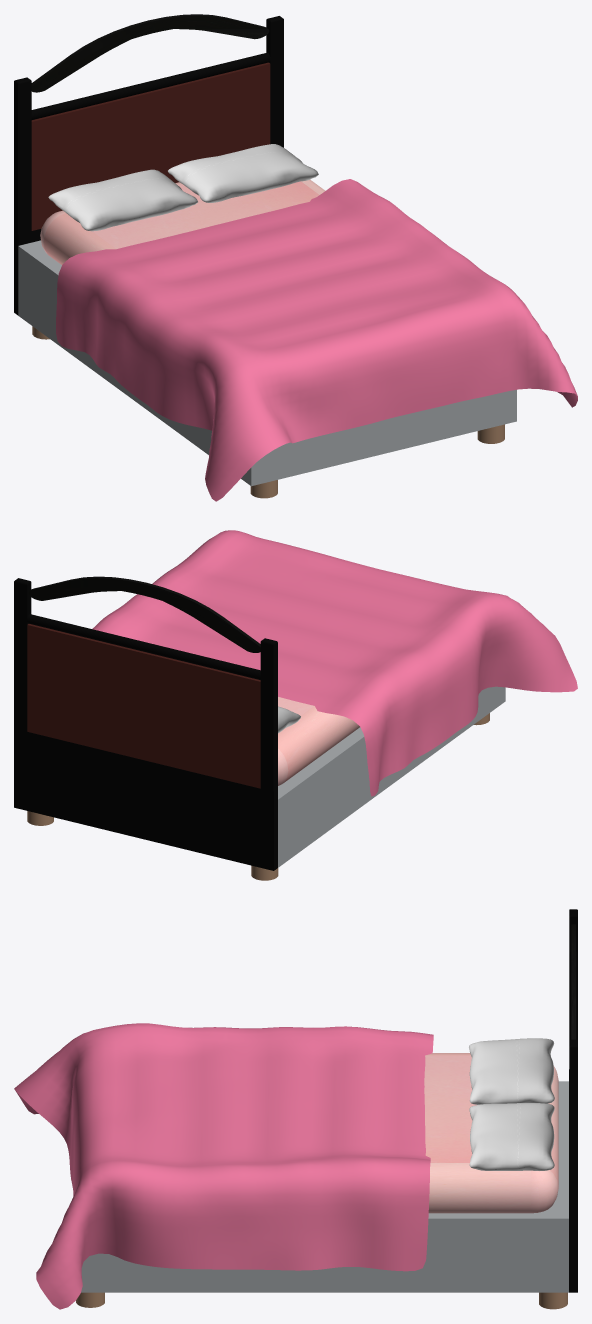
File: bed3.obj
3 views of the same model, one above another, from view 1: azimuth 30°, elevation 25°; view 2: azimuth 150°, elevation 25°; view 3: azimuth 270°, elevation 25° (orthographic). The views are drawn at different scales.
Visible parts, largest first — view 1: polySurface2 pPlane2, pPlane2 polySurface1, pasted__pCube2group2, pCylinder1; view 2: polySurface2 pPlane2, pPlane2 polySurface1, pasted__pCube2group2, pCylinder1; view 3: polySurface2 pPlane2, pasted__pCube2group2.
Boxes of the visible parts, box(x1,y1,x2,y2) form: polySurface2 pPlane2: box(14, 16, 577, 501); pPlane2 polySurface1: box(31, 62, 270, 230); pasted__pCube2group2: box(31, 14, 269, 92); pCylinder1: box(31, 52, 270, 119); polySurface2 pPlane2: box(14, 530, 577, 880); pPlane2 polySurface1: box(27, 624, 260, 788); pasted__pCube2group2: box(28, 576, 260, 652); pCylinder1: box(27, 614, 260, 679); polySurface2 pPlane2: box(14, 909, 577, 1309); pasted__pCube2group2: box(571, 924, 575, 1039).
Size of the model in its own units: 4.75 by 3.42 by 5.94.
10 materials, 9 textured.
